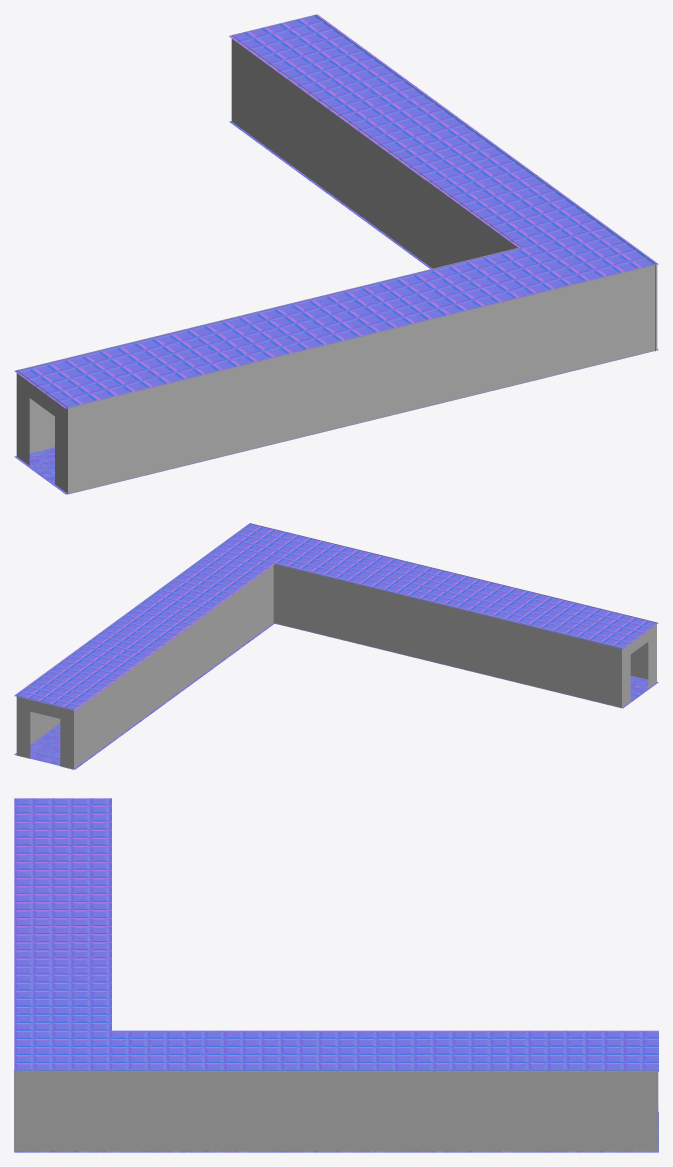
The model's file is basic_L.fbx.
3 views of the same model, one above another, from view 1: azimuth 30°, elevation 25°; view 2: azimuth 150°, elevation 25°; view 3: azimuth 270°, elevation 25° (orthographic). The views are drawn at different scales.
Parts seen in each view (by area): view 1: cross.001; view 2: cross.001; view 3: cross.001.
Part boxes in pixels (x1,y1,x2,y2): cross.001: (14,14,658,494); cross.001: (14,523,658,769); cross.001: (14,798,658,1152).
Size of the model in its own units: 2163 by 304 by 2157.
